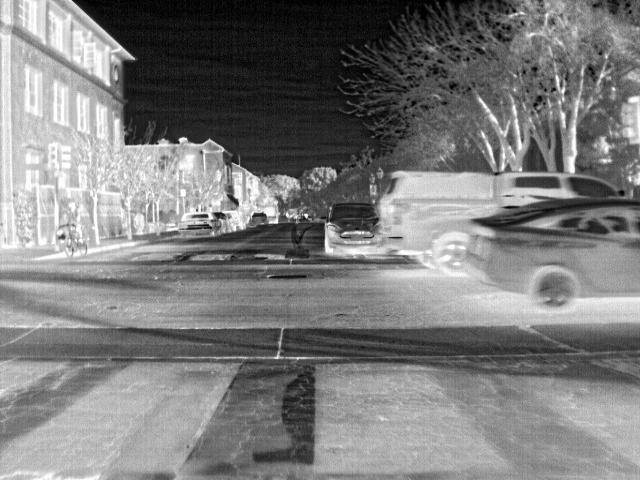car: (465, 197, 640, 307), (379, 167, 474, 275), (473, 171, 621, 196), (323, 202, 375, 258), (179, 210, 221, 235), (217, 210, 240, 231), (248, 212, 268, 225)
person: (64, 200, 80, 228)
